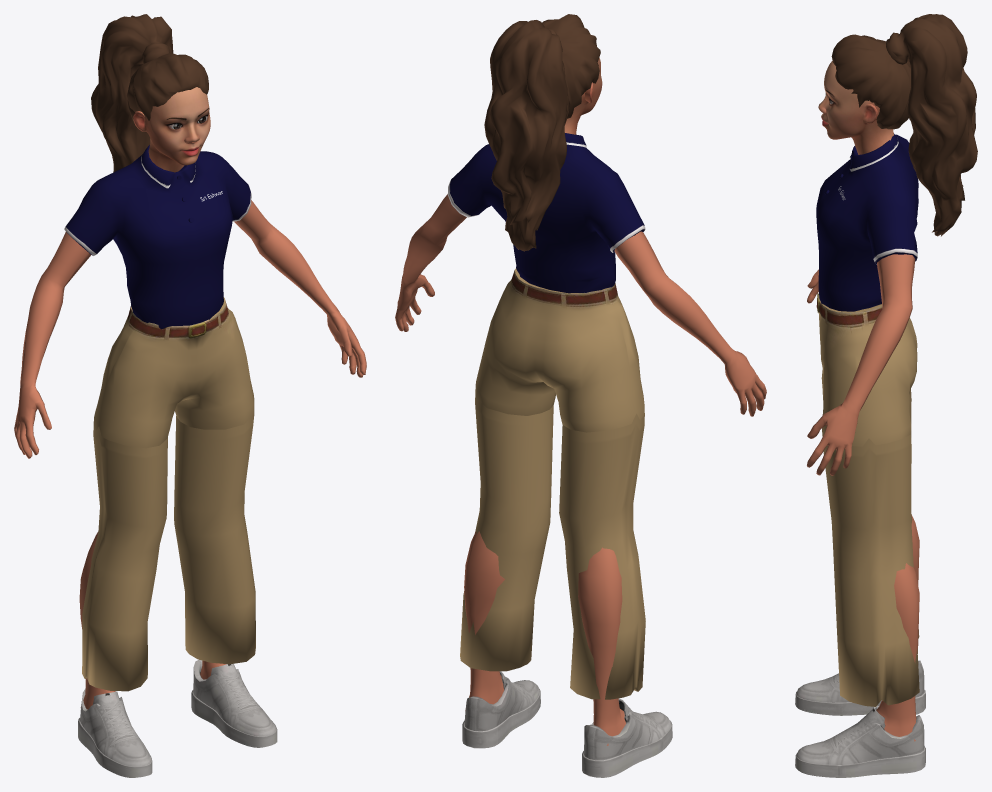
File: Aiva_girl.glb
The picture shows the model from 3 angles, left to right: view 1: azimuth 30°, elevation 25°; view 2: azimuth 150°, elevation 25°; view 3: azimuth 270°, elevation 25°; orthographic projection. The views are drawn at different scales.
Parts seen in each view (by area): view 1: Wolf3D_Outfit_Bottom, Wolf3D_Outfit_Top, Wolf3D_Body, Wolf3D_Hair, Wolf3D_Outfit_Footwear, Wolf3D_Head; view 2: Wolf3D_Outfit_Bottom, Wolf3D_Body, Wolf3D_Hair, Wolf3D_Outfit_Top, Wolf3D_Outfit_Footwear, Wolf3D_Head; view 3: Wolf3D_Outfit_Bottom, Wolf3D_Hair, Wolf3D_Outfit_Top, Wolf3D_Body, Wolf3D_Outfit_Footwear, Wolf3D_Head.
Boxes of the visible parts, x1,y1,x2,y2 form: Wolf3D_Outfit_Bottom: [82, 297, 255, 691]; Wolf3D_Outfit_Top: [64, 145, 251, 329]; Wolf3D_Body: [14, 200, 366, 709]; Wolf3D_Hair: [91, 14, 208, 172]; Wolf3D_Outfit_Footwear: [78, 660, 277, 777]; Wolf3D_Head: [133, 87, 210, 172]; Wolf3D_Outfit_Bottom: [460, 268, 645, 699]; Wolf3D_Body: [395, 194, 766, 745]; Wolf3D_Hair: [484, 14, 600, 251]; Wolf3D_Outfit_Top: [448, 133, 645, 293]; Wolf3D_Outfit_Footwear: [462, 671, 672, 777]; Wolf3D_Head: [564, 57, 602, 134]; Wolf3D_Outfit_Bottom: [817, 293, 919, 706]; Wolf3D_Hair: [831, 14, 977, 236]; Wolf3D_Outfit_Top: [816, 133, 918, 311]; Wolf3D_Body: [807, 254, 919, 741]; Wolf3D_Outfit_Footwear: [795, 660, 925, 777]; Wolf3D_Head: [818, 61, 893, 154].
Size of the model in its own units: 57.99 by 114 by 26.19.
Materials: 8 (8 with a texture image).
